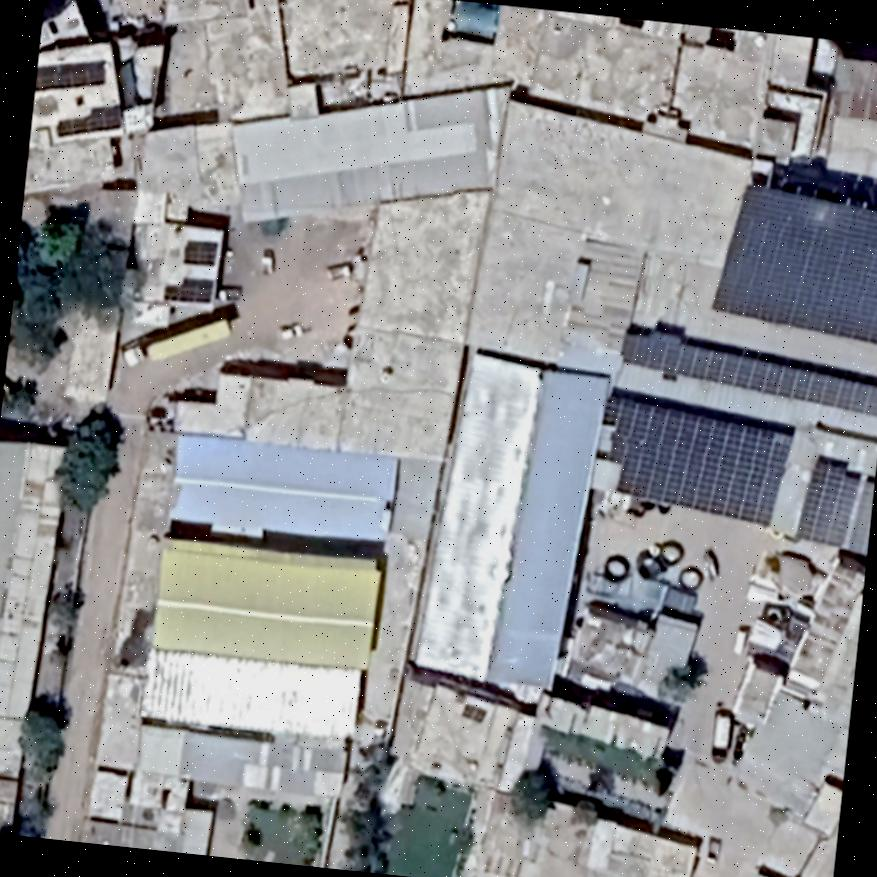Solarpanel: (588, 388, 799, 527), (708, 182, 877, 346), (615, 322, 877, 417), (794, 453, 860, 551), (52, 102, 126, 136), (36, 58, 106, 91), (161, 275, 215, 304), (181, 239, 219, 264), (460, 701, 487, 723)
